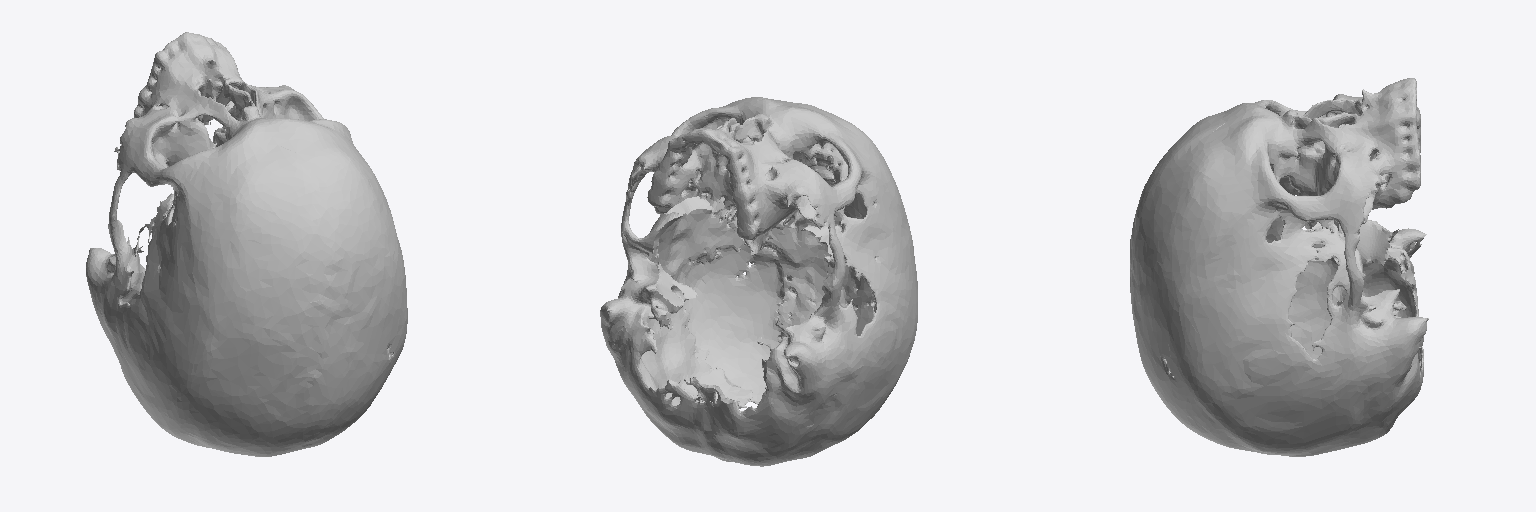
The model's file is SKULL_MAXILLA-REMESH-METERS.obj.
3 views of the same model, side by side, from view 1: azimuth 30°, elevation 25°; view 2: azimuth 150°, elevation 25°; view 3: azimuth 270°, elevation 25° (orthographic).
Size of the model in its own units: 0.1443 by 0.2013 by 0.1564.